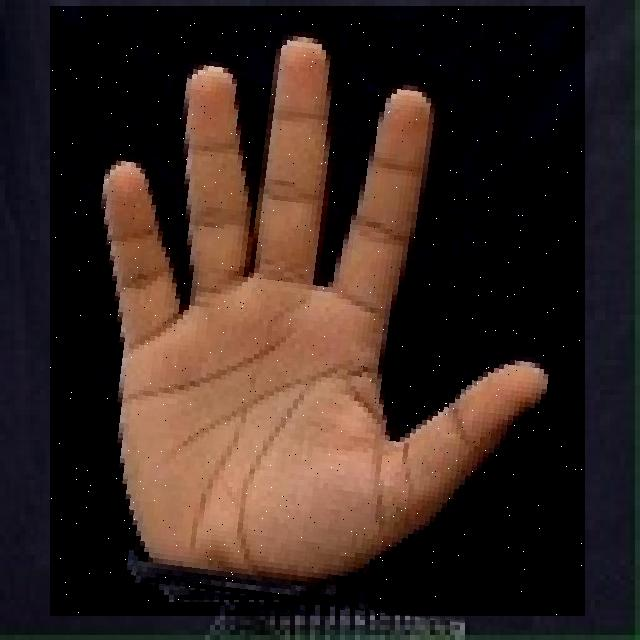Yes: (50, 6, 585, 616)
